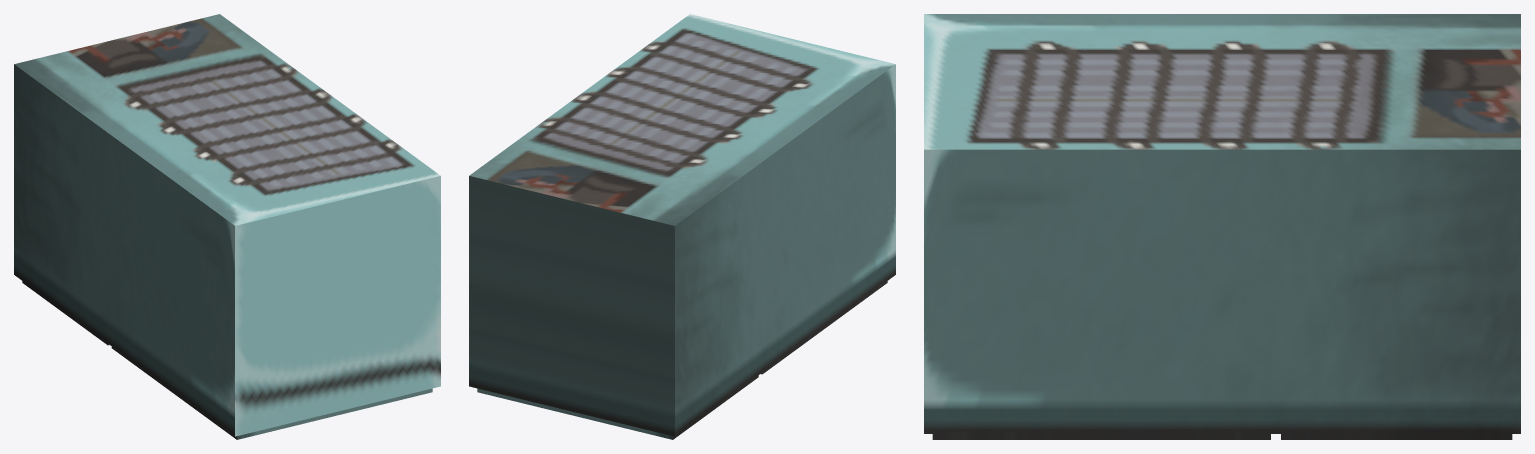
Rendered from pz_fridge_blue.obj.
3 renders of one model, left to right at view 1: azimuth 30°, elevation 25°; view 2: azimuth 150°, elevation 25°; view 3: azimuth 270°, elevation 25°, orthographic. The views are drawn at different scales.
Size of the model in its own units: 0.94 by 0.95 by 1.75.
Materials: 1 (1 with a texture image).
